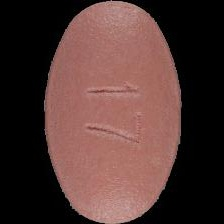0093-0017: (0, 0, 224, 224)
